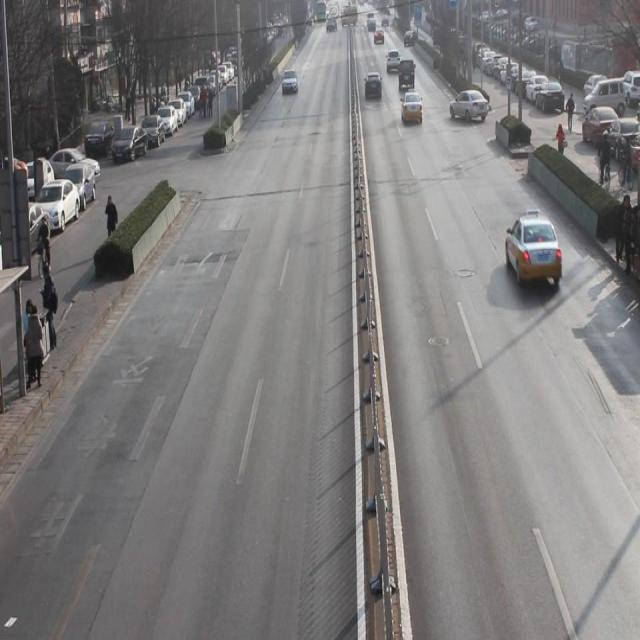car: (504, 218, 564, 294), (448, 90, 491, 127), (401, 96, 423, 128), (281, 68, 299, 100), (365, 73, 383, 101), (386, 51, 401, 77)
truck: (398, 59, 417, 94)
